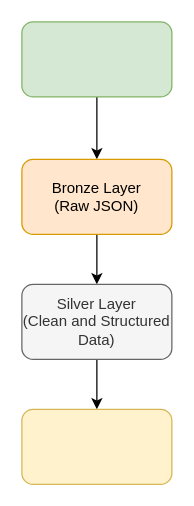
This 194x506 diagram has some shape labels left out. Here are the shapes that lost their labels. From the top down, the centre of each, then its label:
At point (96, 59): "Live Cricket Data API".
At point (96, 446): "Gold Layer (Analytics)".
